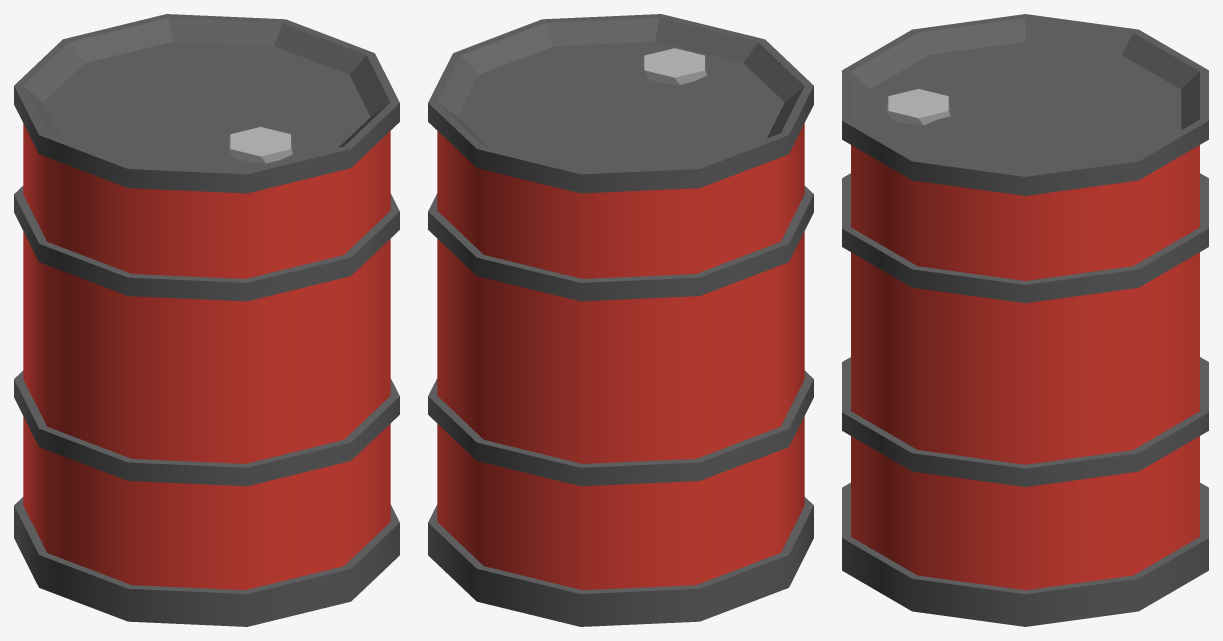
File: barrel_009.glb
3 renders of one model, left to right at view 1: azimuth 30°, elevation 25°; view 2: azimuth 150°, elevation 25°; view 3: azimuth 270°, elevation 25°, orthographic.
Parts seen in each view (by area): view 1: barrel_009; view 2: barrel_009; view 3: barrel_009.
Boxes of the visible parts, bbox=[...] form: barrel_009: bbox=[14, 14, 399, 626]; barrel_009: bbox=[428, 14, 813, 626]; barrel_009: bbox=[842, 14, 1208, 626].
Size of the model in its own units: 0.8232 by 1.06 by 0.783.
1 material, 1 textured.
